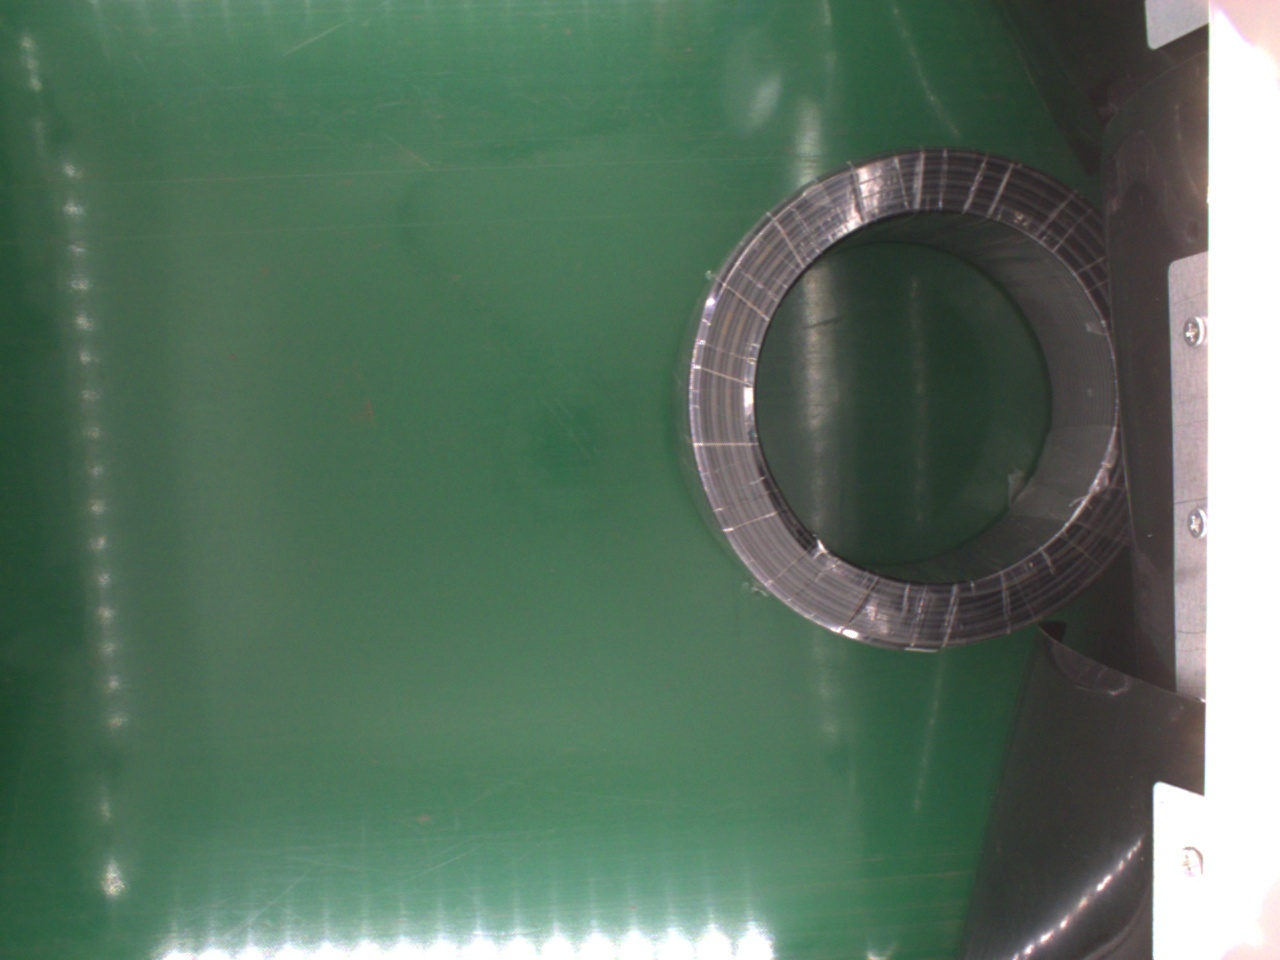black: (672, 146, 1127, 661)
